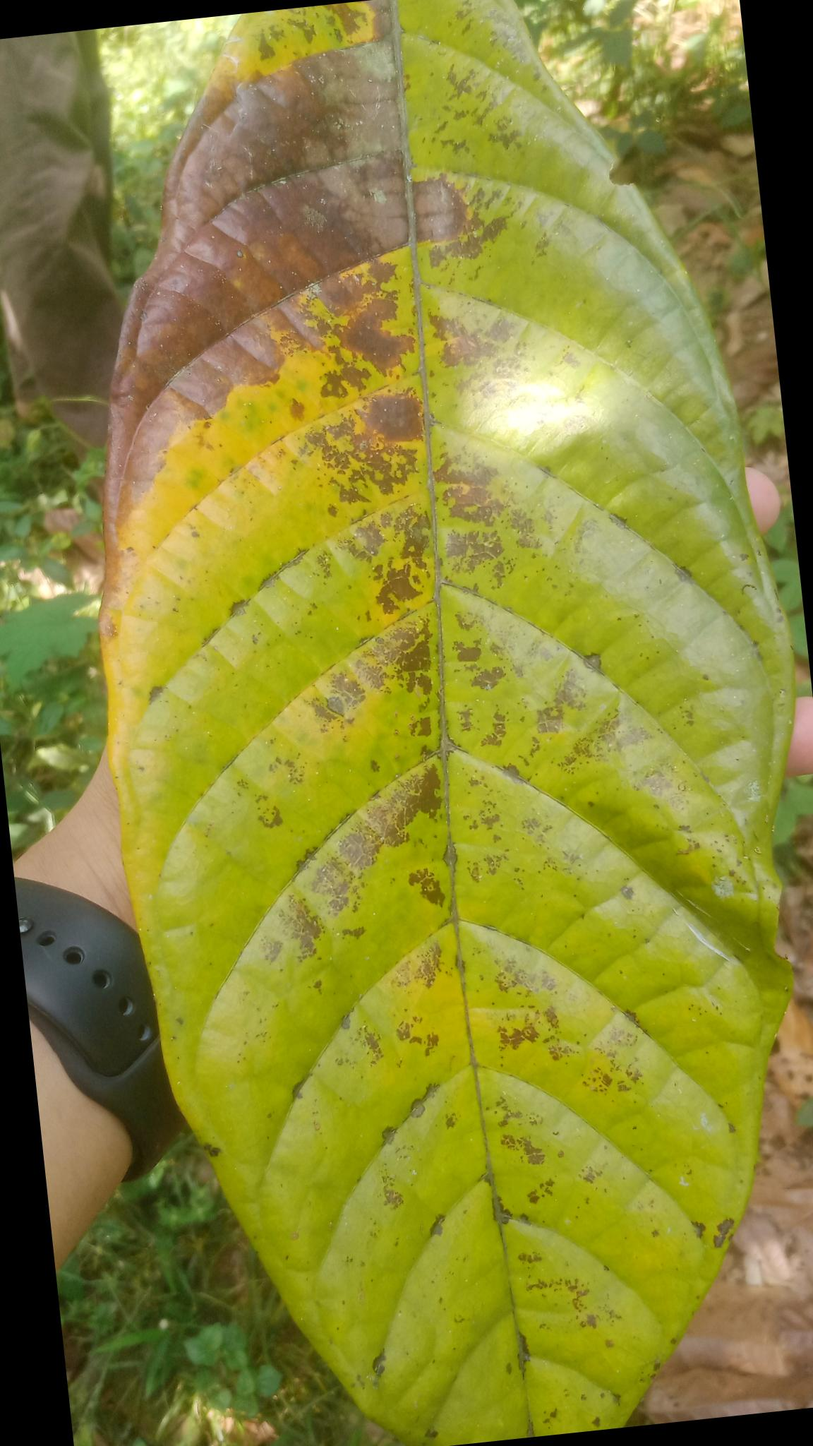Fosforo: (100, 0, 798, 1440)
